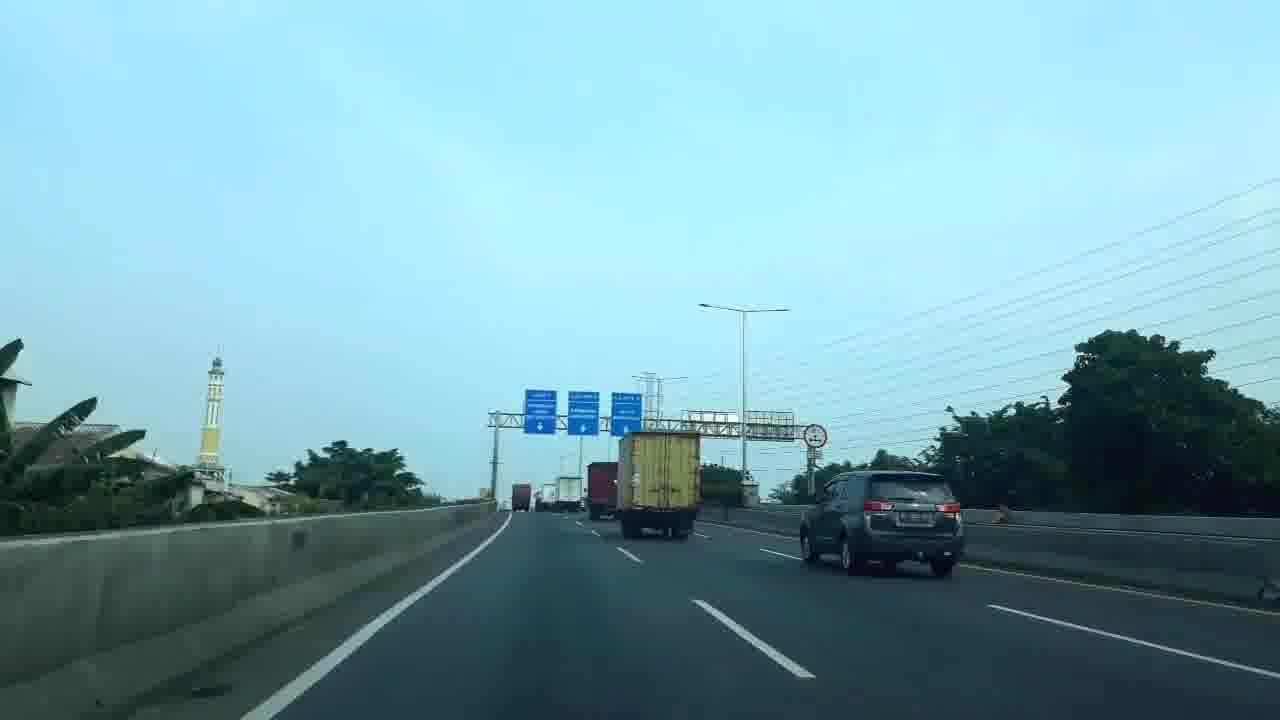plate_positive: (899, 511, 929, 523)
